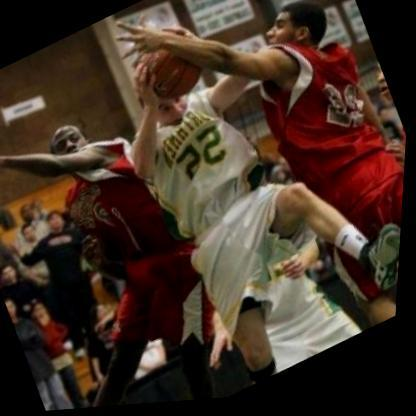basketball: (124, 16, 216, 110)
